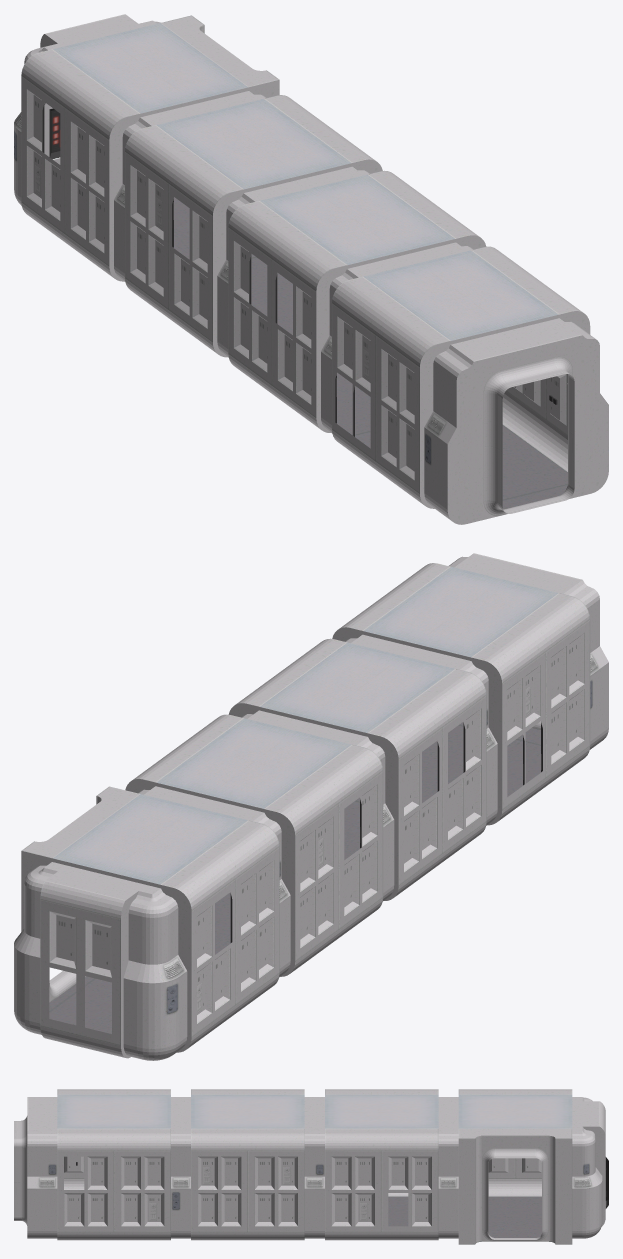
The model's file is thm_spc_corvette_dungeon_r13_hall13_mesh_r13.fbx.
The picture shows the model from 3 angles, top to bottom: view 1: azimuth 30°, elevation 25°; view 2: azimuth 150°, elevation 25°; view 3: azimuth 270°, elevation 25°; orthographic projection. The views are drawn at different scales.
Visible parts, largest first — view 1: mesh_node; view 2: mesh_node; view 3: mesh_node.
Part boxes in pixels (left/top/right/bottom): mesh_node: left=14, top=14, right=608, bottom=524; mesh_node: left=14, top=553, right=608, bottom=1060; mesh_node: left=14, top=1089, right=608, bottom=1244.
Bounding box in the file's own units: 4 × 3.5 × 17.8.
